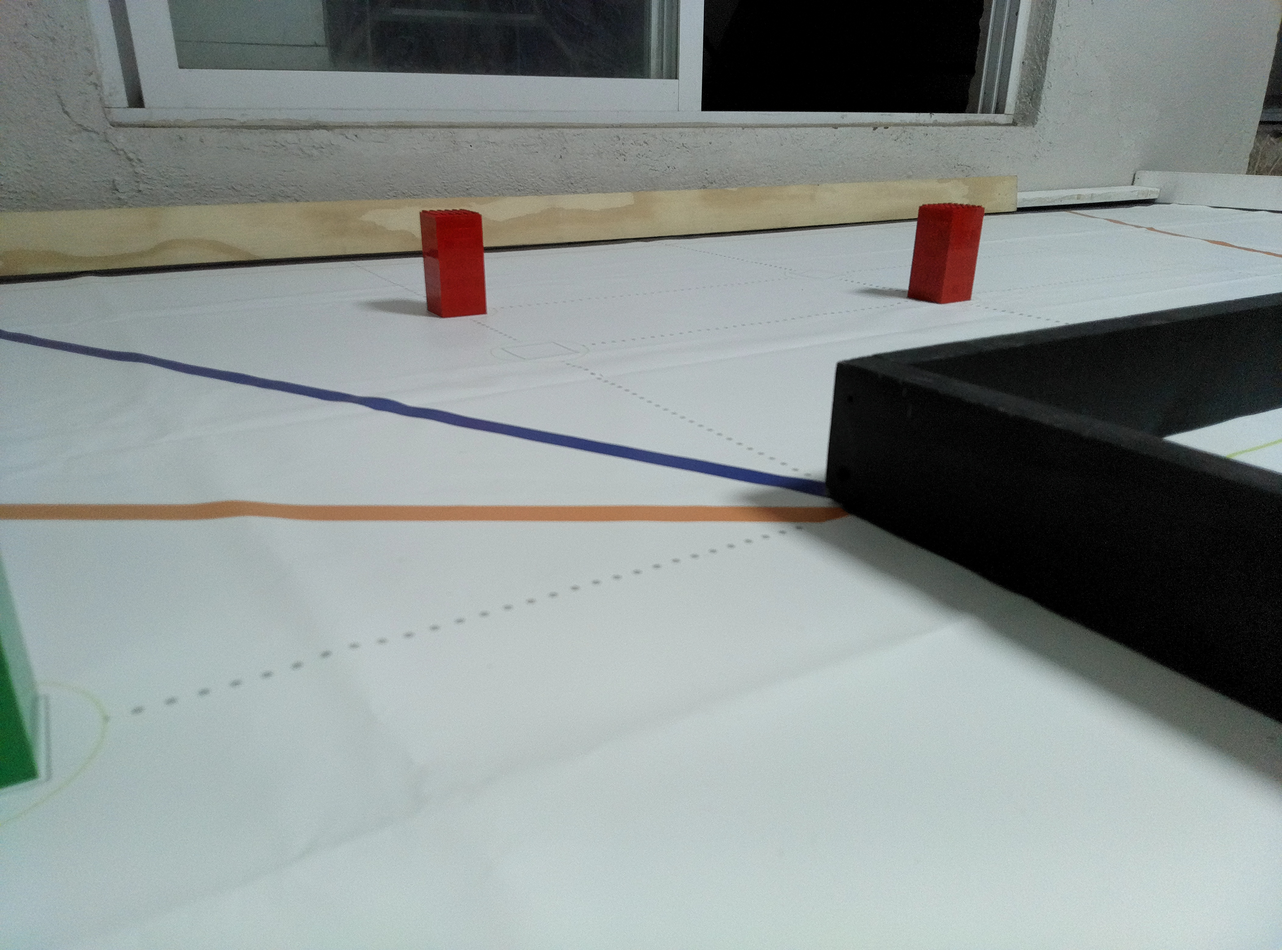greenbox: (0, 545, 42, 794)
redbox: (906, 200, 985, 305), (418, 206, 490, 320)
